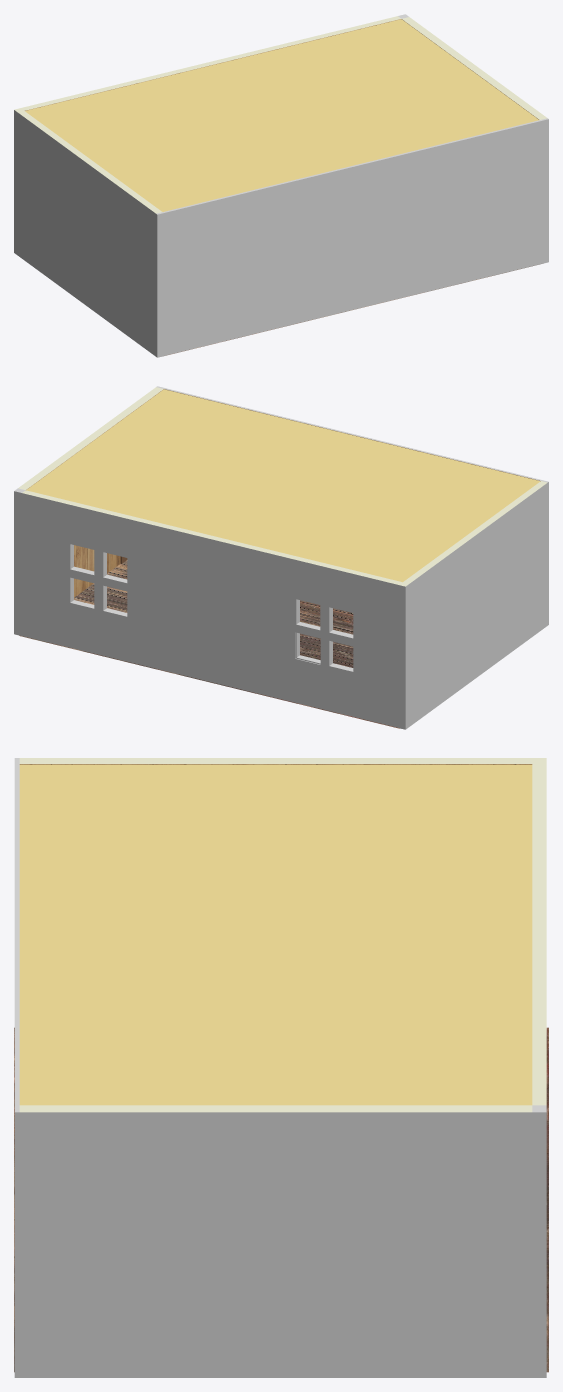
The model's file is Cabin.glb.
The picture shows the model from 3 angles, top to bottom: view 1: azimuth 30°, elevation 25°; view 2: azimuth 150°, elevation 25°; view 3: azimuth 270°, elevation 25°; orthographic projection. The views are drawn at different scales.
Parts seen in each view (by area): view 1: Cube, Plane.001; view 2: Cube, Plane.001, Plane; view 3: Plane.001, Cube, Plane.
Part boxes in pixels (bbox=[...]): Cube: bbox=[14, 14, 548, 357]; Plane.001: bbox=[25, 19, 539, 211]; Cube: bbox=[14, 386, 548, 729]; Plane.001: bbox=[26, 389, 540, 582]; Plane: bbox=[19, 560, 399, 728]; Plane.001: bbox=[19, 764, 532, 1105]; Cube: bbox=[14, 758, 546, 1377]; Plane: bbox=[14, 1027, 548, 1372].
Bounding box in the file's own units: 50.39 × 17.68 × 32.15.
Materials: 7 (2 with a texture image).
